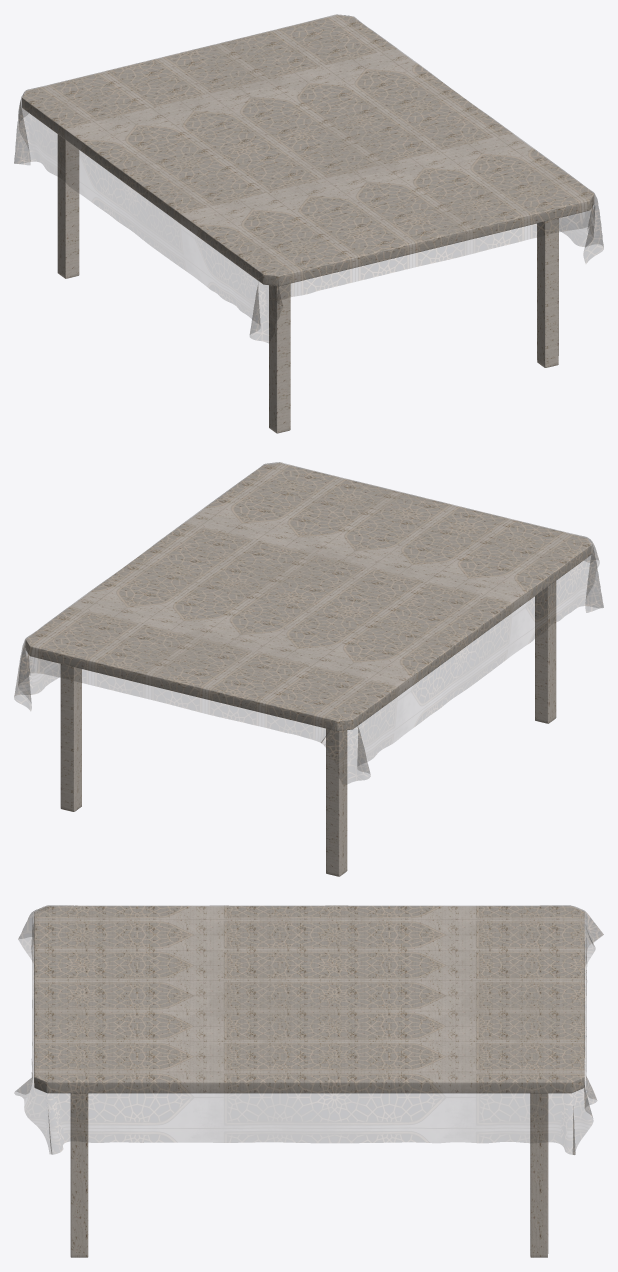
Rendered from table.glb.
3 views of the same model, one above another, from view 1: azimuth 30°, elevation 25°; view 2: azimuth 150°, elevation 25°; view 3: azimuth 270°, elevation 25° (orthographic). The views are drawn at different scales.
Visible parts, largest first — view 1: Object_2, Object_3; view 2: Object_2, Object_3; view 3: Object_2, Object_3.
Boxes of the visible parts, x1,y1,x2,y2 form: Object_2: [14, 14, 603, 342]; Object_3: [22, 15, 594, 433]; Object_2: [14, 462, 603, 785]; Object_3: [25, 463, 591, 876]; Object_2: [14, 905, 603, 1154]; Object_3: [34, 906, 584, 1257].
Size of the model in its own units: 8.9 by 4.17 by 11.7.
Materials: 2 (2 with a texture image).
